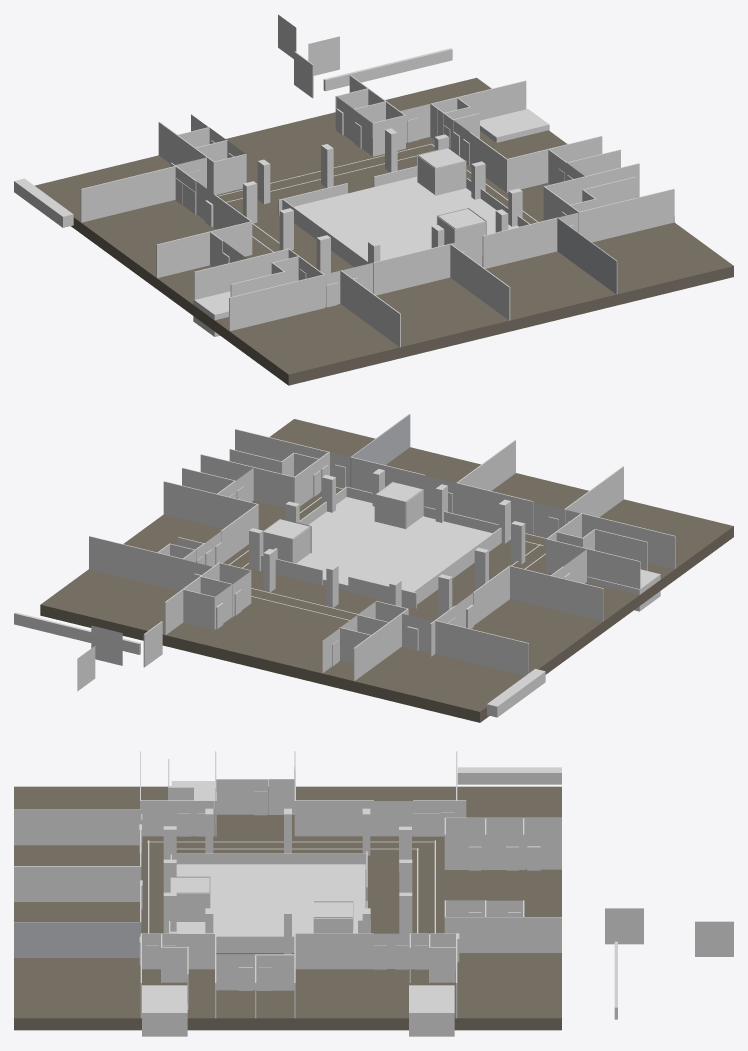
File: Floor 01.fbx
The picture shows the model from 3 angles, top to bottom: view 1: azimuth 30°, elevation 25°; view 2: azimuth 150°, elevation 25°; view 3: azimuth 270°, elevation 25°; orthographic projection. The views are drawn at different scales.
Visible parts, largest first — view 1: Cube, Cube.001, Cube.034, Cube.006, Cube.029, Cube.040, Cube.036, Cube.037, Cube.021, Cube.044, Cube.031, Cube.032 (+24 smaller); view 2: Cube, Cube.001, Cube.040, Cube.006, Cube.004, Cube.021, Cube.044, Cube.025, Cube.036, Cube.034, Cube.007, Cube.031 (+39 smaller); view 3: Cube, Cube.001, Cube.033, Cube.032, Cube.031, Cube.002, Cube.020, Cube.045, Cube.082, Cube.086, Cube.053, Cube.007 (+30 smaller).
Part boxes in pixels (box(x1,y1,x2,y2)): Cube: box(35, 77, 733, 385); Cube.001: box(294, 176, 518, 260); Cube.034: box(229, 274, 324, 331); Cube.006: box(80, 166, 176, 222); Cube.029: box(578, 189, 674, 242); Cube.040: box(156, 221, 252, 278); Cube.036: box(373, 244, 450, 295); Cube.037: box(482, 217, 557, 268); Cube.021: box(506, 136, 602, 192); Cube.044: box(194, 248, 289, 299); Cube.031: box(557, 217, 617, 294); Cube.032: box(450, 243, 510, 320); Cube: box(40, 419, 733, 722); Cube.001: box(296, 497, 492, 591); Cube.040: box(509, 565, 603, 621); Cube.006: box(435, 620, 528, 675); Cube.004: box(89, 536, 183, 591); Cube.021: box(163, 481, 258, 529); Cube.044: box(545, 538, 640, 588); Cube.025: box(200, 454, 295, 507); Cube.036: box(457, 483, 533, 534); Cube.034: box(581, 513, 675, 568); Cube.007: box(353, 608, 408, 681); Cube.031: box(350, 414, 410, 487); Cube: box(14, 786, 561, 1030); Cube.001: box(170, 864, 365, 936); Cube.033: box(14, 809, 141, 845); Cube.032: box(14, 866, 141, 901); Cube.031: box(14, 922, 141, 957); Cube.002: box(444, 917, 561, 952); Cube.020: box(295, 933, 373, 969); Cube.045: box(295, 800, 373, 836); Cube.082: box(409, 985, 454, 1036); Cube.086: box(142, 985, 187, 1036); Cube.053: box(176, 853, 366, 869); Cube.007: box(445, 817, 561, 834).
Size of the model in its own units: 8747 by 1004 by 11038.
